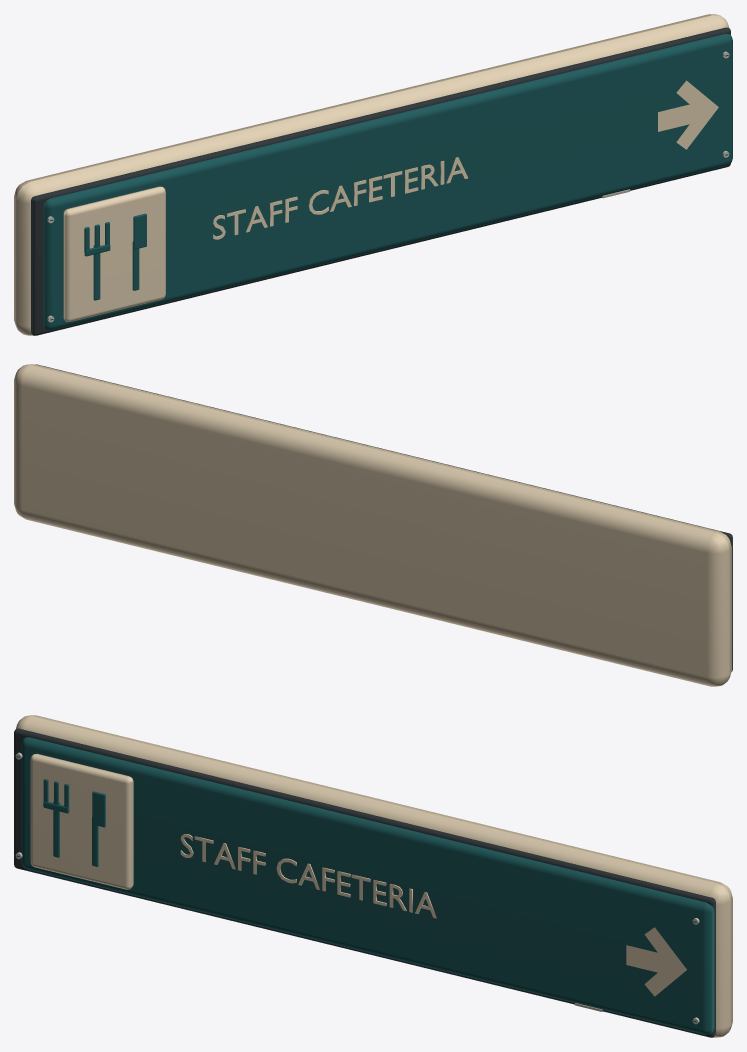
Rendered from sign_staff_cafeteria.glb.
3 renders of one model, top to bottom at view 1: azimuth 30°, elevation 25°; view 2: azimuth 150°, elevation 25°; view 3: azimuth 330°, elevation 25°, orthographic.
Parts seen in each view (by area): view 1: sign_staff_cafeteria__Enamel_Teal, sign_staff_cafeteria__Shell_Warm_Cream, sign_staff_cafeteria__Rubber_Graphite; view 2: sign_staff_cafeteria__Shell_Warm_Cream, sign_staff_cafeteria__Rubber_Graphite; view 3: sign_staff_cafeteria__Enamel_Teal, sign_staff_cafeteria__Shell_Warm_Cream, sign_staff_cafeteria__Rubber_Graphite.
Boxes of the visible parts, left/top/right/bottom form: sign_staff_cafeteria__Enamel_Teal: left=43, top=33, right=732, bottom=330; sign_staff_cafeteria__Shell_Warm_Cream: left=14, top=14, right=729, bottom=335; sign_staff_cafeteria__Rubber_Graphite: left=31, top=27, right=730, bottom=335; sign_staff_cafeteria__Shell_Warm_Cream: left=14, top=364, right=731, bottom=686; sign_staff_cafeteria__Rubber_Graphite: left=36, top=364, right=732, bottom=671; sign_staff_cafeteria__Enamel_Teal: left=21, top=737, right=714, bottom=1034; sign_staff_cafeteria__Shell_Warm_Cream: left=16, top=715, right=732, bottom=1037; sign_staff_cafeteria__Rubber_Graphite: left=14, top=728, right=715, bottom=1037.
Bounding box in the file's own units: 0.9 × 0.185 × 0.066.
